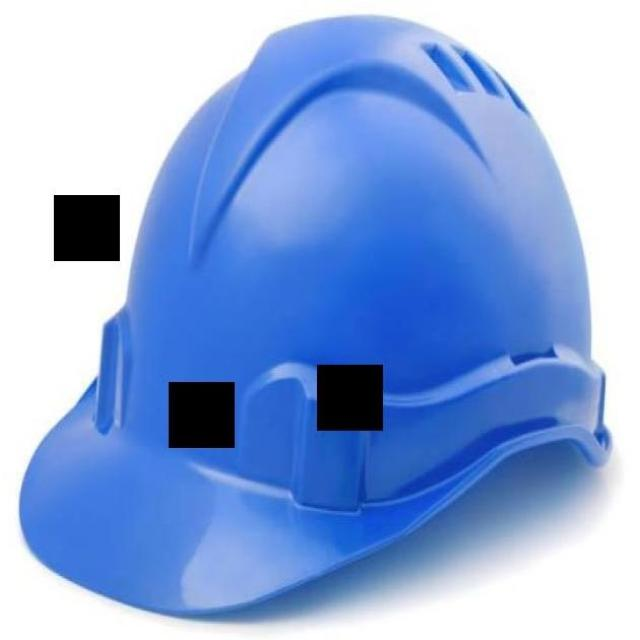blue helmet: (7, 13, 640, 629)
